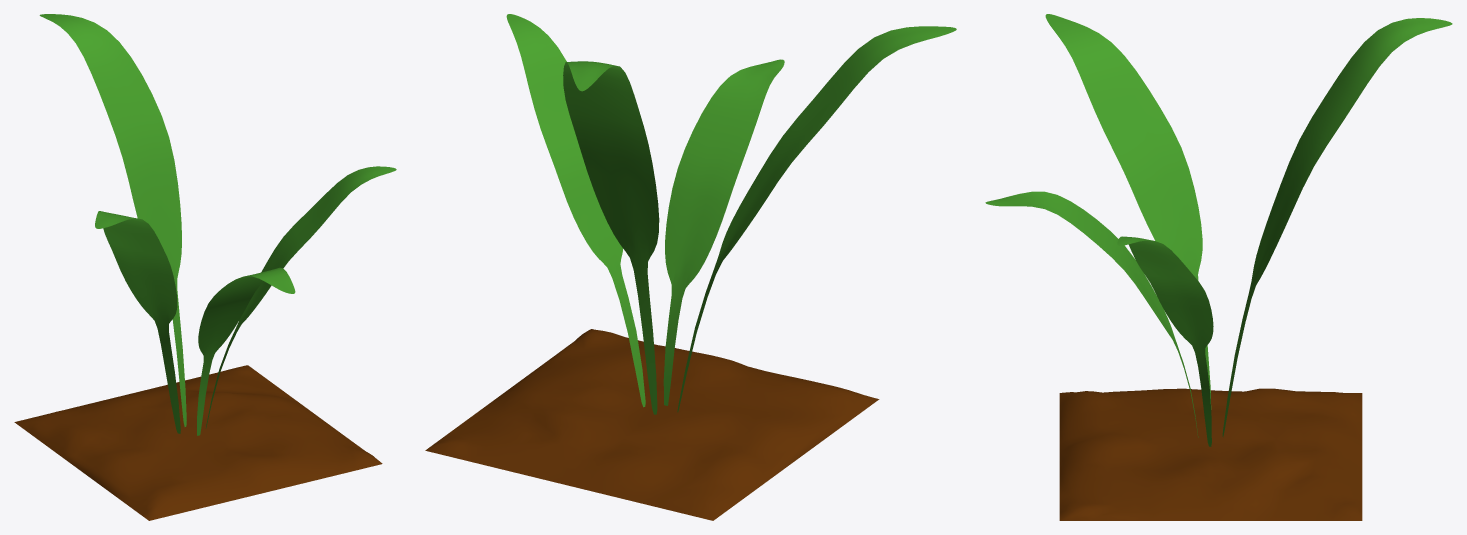
File: oil-palm-p1-bloom.glb
3 views of the same model, side by side, from view 1: azimuth 30°, elevation 25°; view 2: azimuth 150°, elevation 25°; view 3: azimuth 270°, elevation 25° (orthographic). The views are drawn at different scales.
Parts seen in each view (by area): view 1: 1_nft_bloom; view 2: 1_nft_bloom; view 3: 1_nft_bloom.
Boxes of the visible parts, box(x1,y1,x2,y2) form: 1_nft_bloom: box(14, 14, 396, 520); 1_nft_bloom: box(425, 14, 956, 520); 1_nft_bloom: box(985, 14, 1452, 520).
Bounding box in the file's own units: 1.99 × 2.09 × 2.16.
